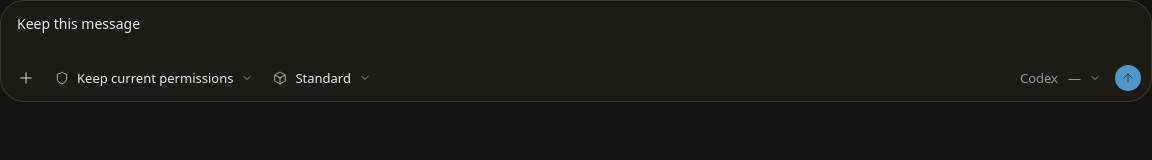
Test: preserves recovery in memory for delivery_unknown when storage is unavailable
Click the button named "Send" at (1128, 78), box [1115,65,1141,91]
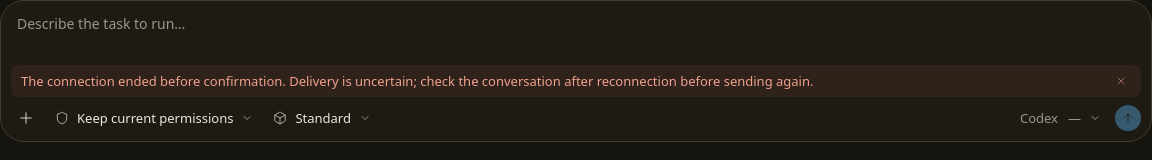
Now the message is shown, box [11,65,1141,97]
